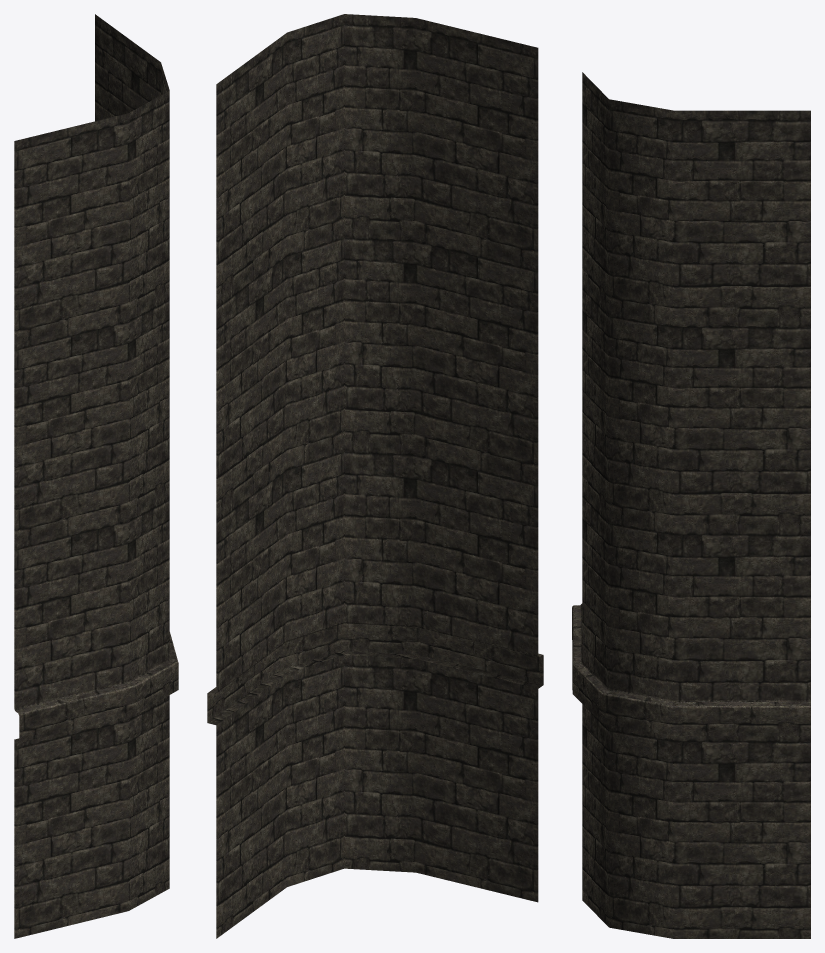
The model's file is wallBlockOCR.fbx.
3 renders of one model, left to right at view 1: azimuth 30°, elevation 25°; view 2: azimuth 150°, elevation 25°; view 3: azimuth 270°, elevation 25°, orthographic. The views are drawn at different scales.
Visible parts, largest first — view 1: polySurface91; view 2: polySurface91; view 3: polySurface91.
Boxes of the visible parts, bbox=[...] form: polySurface91: bbox=[14, 14, 178, 938]; polySurface91: bbox=[207, 14, 543, 938]; polySurface91: bbox=[572, 72, 810, 938].
Bounding box in the file's own units: 2.09 × 8 × 2.09.
